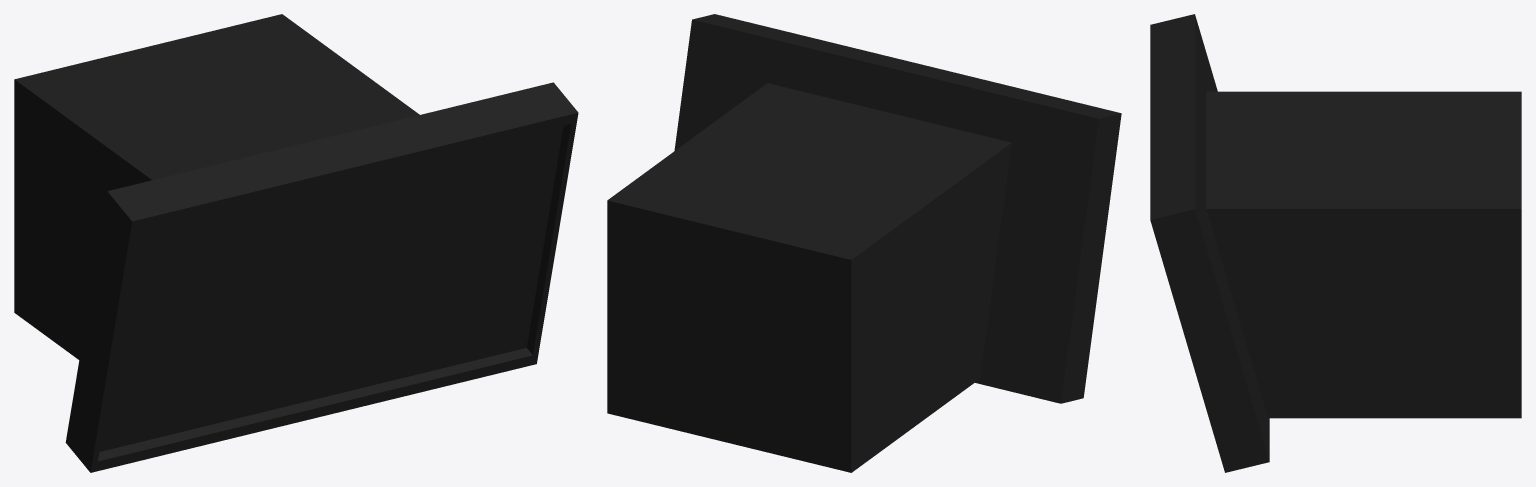
The model's file is beijing_pids_a1.obj.
3 views of the same model, side by side, from view 1: azimuth 30°, elevation 25°; view 2: azimuth 150°, elevation 25°; view 3: azimuth 270°, elevation 25° (orthographic). The views are drawn at different scales.
Parts seen in each view (by area): view 1: cube; view 2: cube; view 3: cube.
Part boxes in pixels (<box>): cube: <box>14,14,578,472</box>; cube: <box>607,14,1121,472</box>; cube: <box>1150,14,1521,472</box>.
Bounding box in the file's own units: 1.25 × 0.787 × 1.
1 material, 1 textured.
